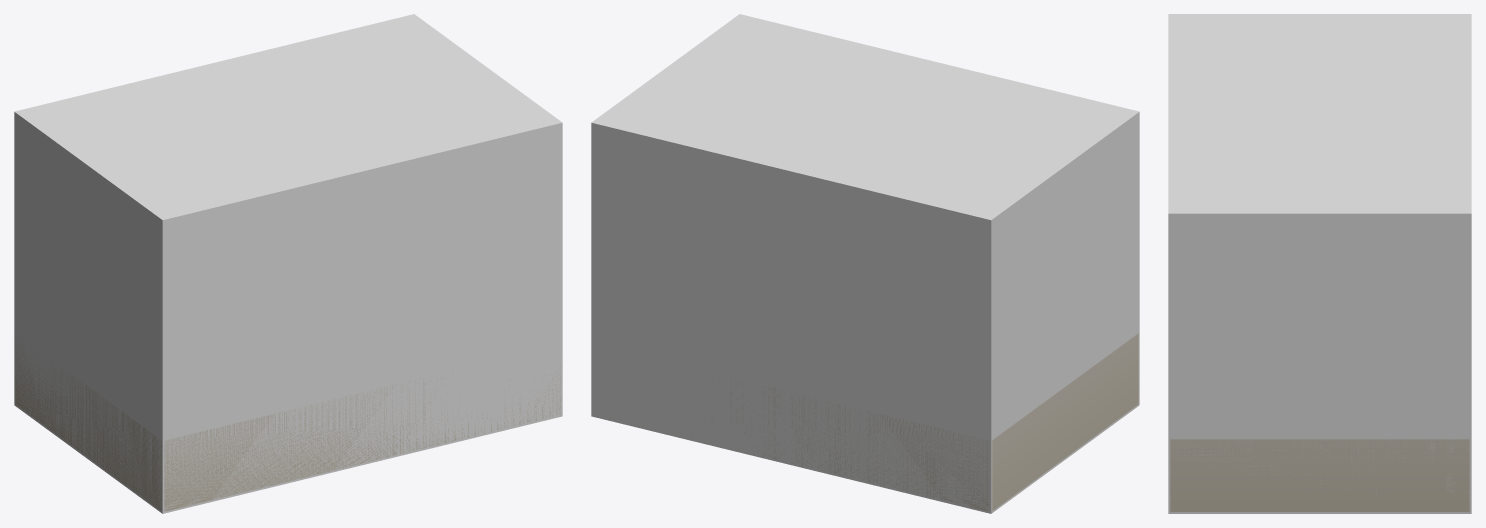
Rendered from KIT_SF_CannonPlinth_A.glb.
3 views of the same model, side by side, from view 1: azimuth 30°, elevation 25°; view 2: azimuth 150°, elevation 25°; view 3: azimuth 270°, elevation 25° (orthographic). The views are drawn at different scales.
Visible parts, largest first — view 1: KIT_SF_CannonPlinth_A_COL, KIT_SF_CannonPlinth_A; view 2: KIT_SF_CannonPlinth_A_COL, KIT_SF_CannonPlinth_A; view 3: KIT_SF_CannonPlinth_A_COL, KIT_SF_CannonPlinth_A.
Part boxes in pixels (bbox=[...]): KIT_SF_CannonPlinth_A_COL: bbox=[14, 14, 562, 513]; KIT_SF_CannonPlinth_A: bbox=[15, 336, 560, 511]; KIT_SF_CannonPlinth_A_COL: bbox=[591, 14, 1139, 513]; KIT_SF_CannonPlinth_A: bbox=[620, 333, 1138, 511]; KIT_SF_CannonPlinth_A_COL: bbox=[1168, 14, 1471, 513]; KIT_SF_CannonPlinth_A: bbox=[1170, 439, 1469, 511].
Size of what is drawn, in the model's own units: 2.8 by 1.96 by 1.8.
